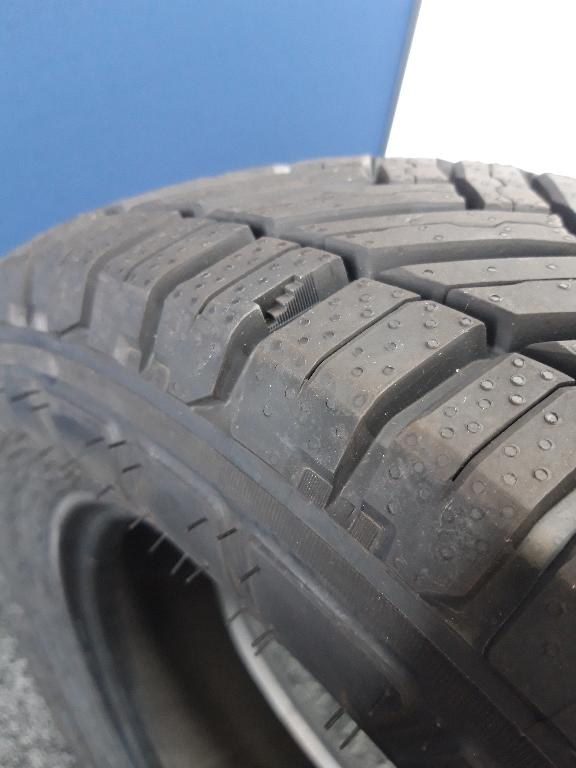temoin:100: (250, 267, 322, 335)
